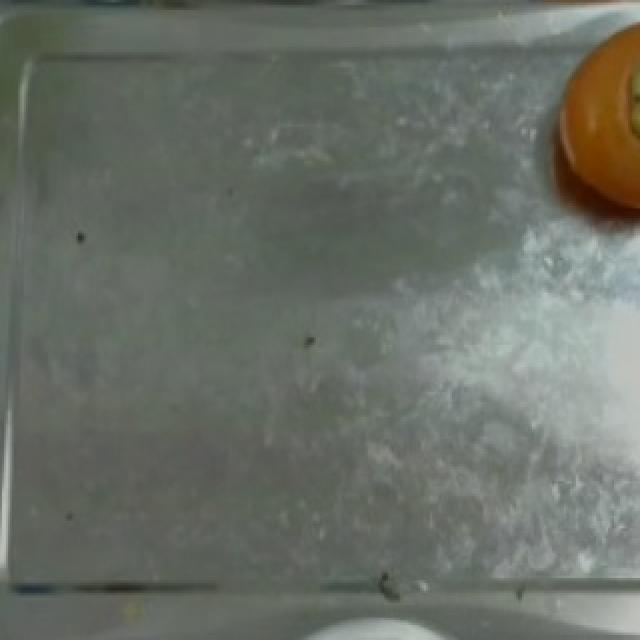Fruit: (530, 10, 640, 243), (448, 0, 640, 42)
